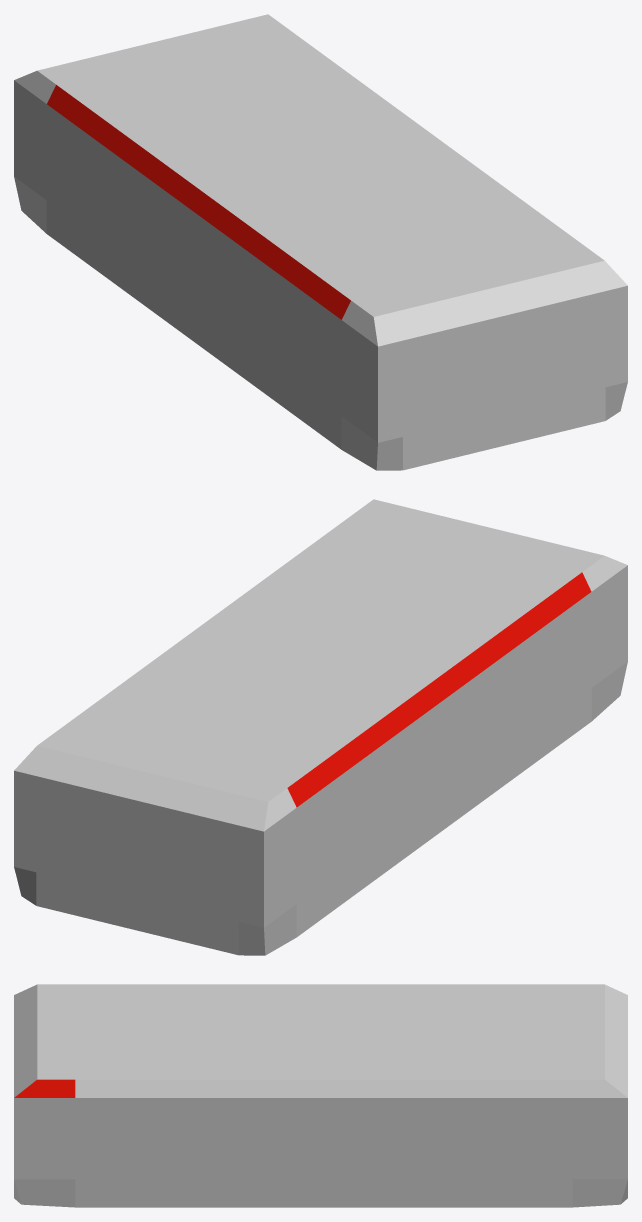
The model's file is eraser.fbx.
3 renders of one model, top to bottom at view 1: azimuth 30°, elevation 25°; view 2: azimuth 150°, elevation 25°; view 3: azimuth 270°, elevation 25°, orthographic. The views are drawn at different scales.
Visible parts, largest first — view 1: Cube; view 2: Cube; view 3: Cube.
Part boxes in pixels (x1,y1,x2,y2): Cube: (14,14,627,470); Cube: (14,499,627,955); Cube: (14,984,627,1207).
Size of the model in its own units: 64 by 36.01 by 161.
